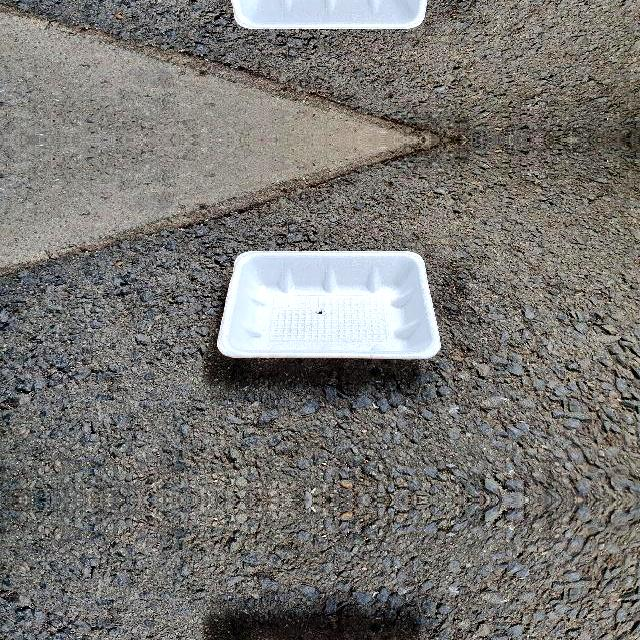Styrofoam: (218, 250, 440, 360), (217, 251, 441, 359), (217, 0, 440, 30), (230, 0, 428, 29)
